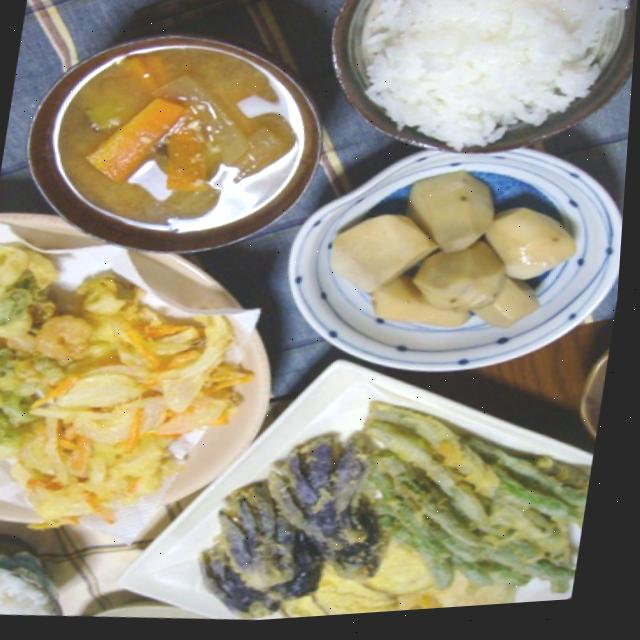蔬菜料理: (207, 344, 613, 627)
